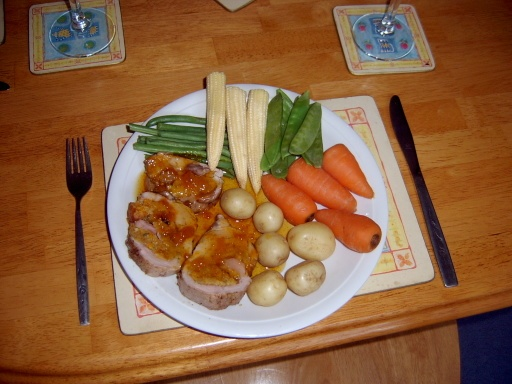background: (100, 42, 305, 185)
